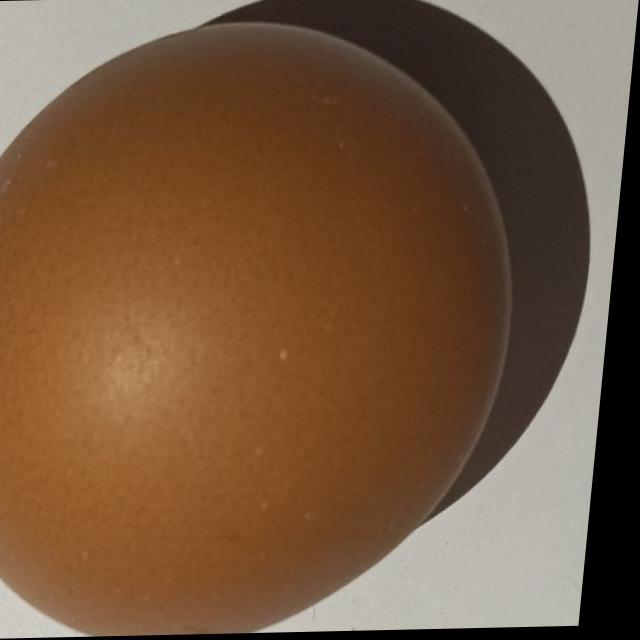fresh: (0, 25, 541, 640)
